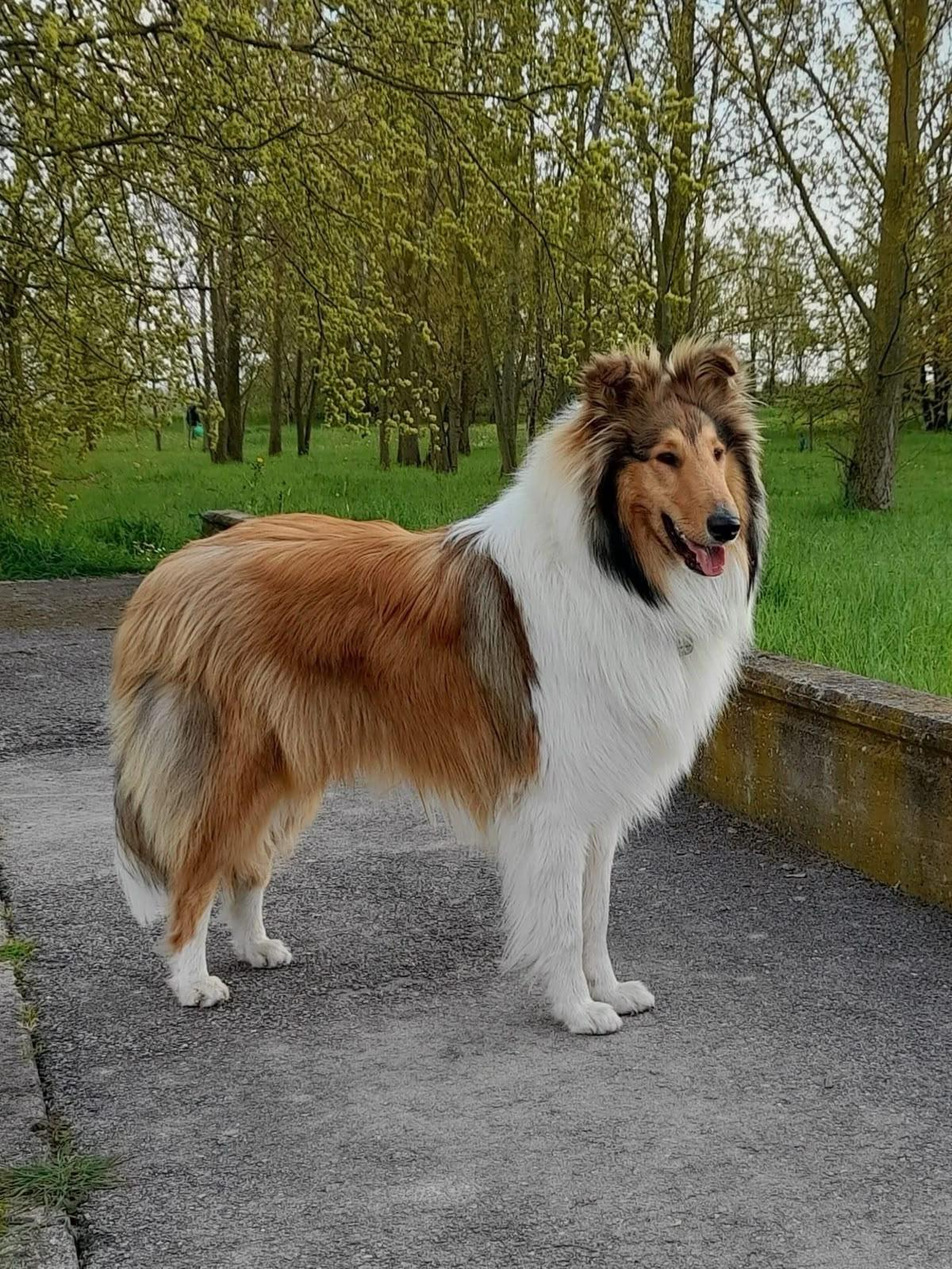dog: (111, 343, 766, 1032)
